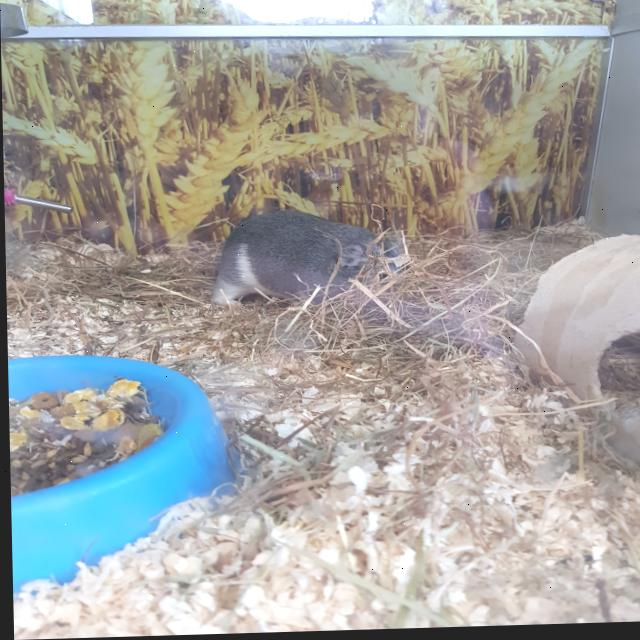guinea pig: (204, 205, 412, 317)
